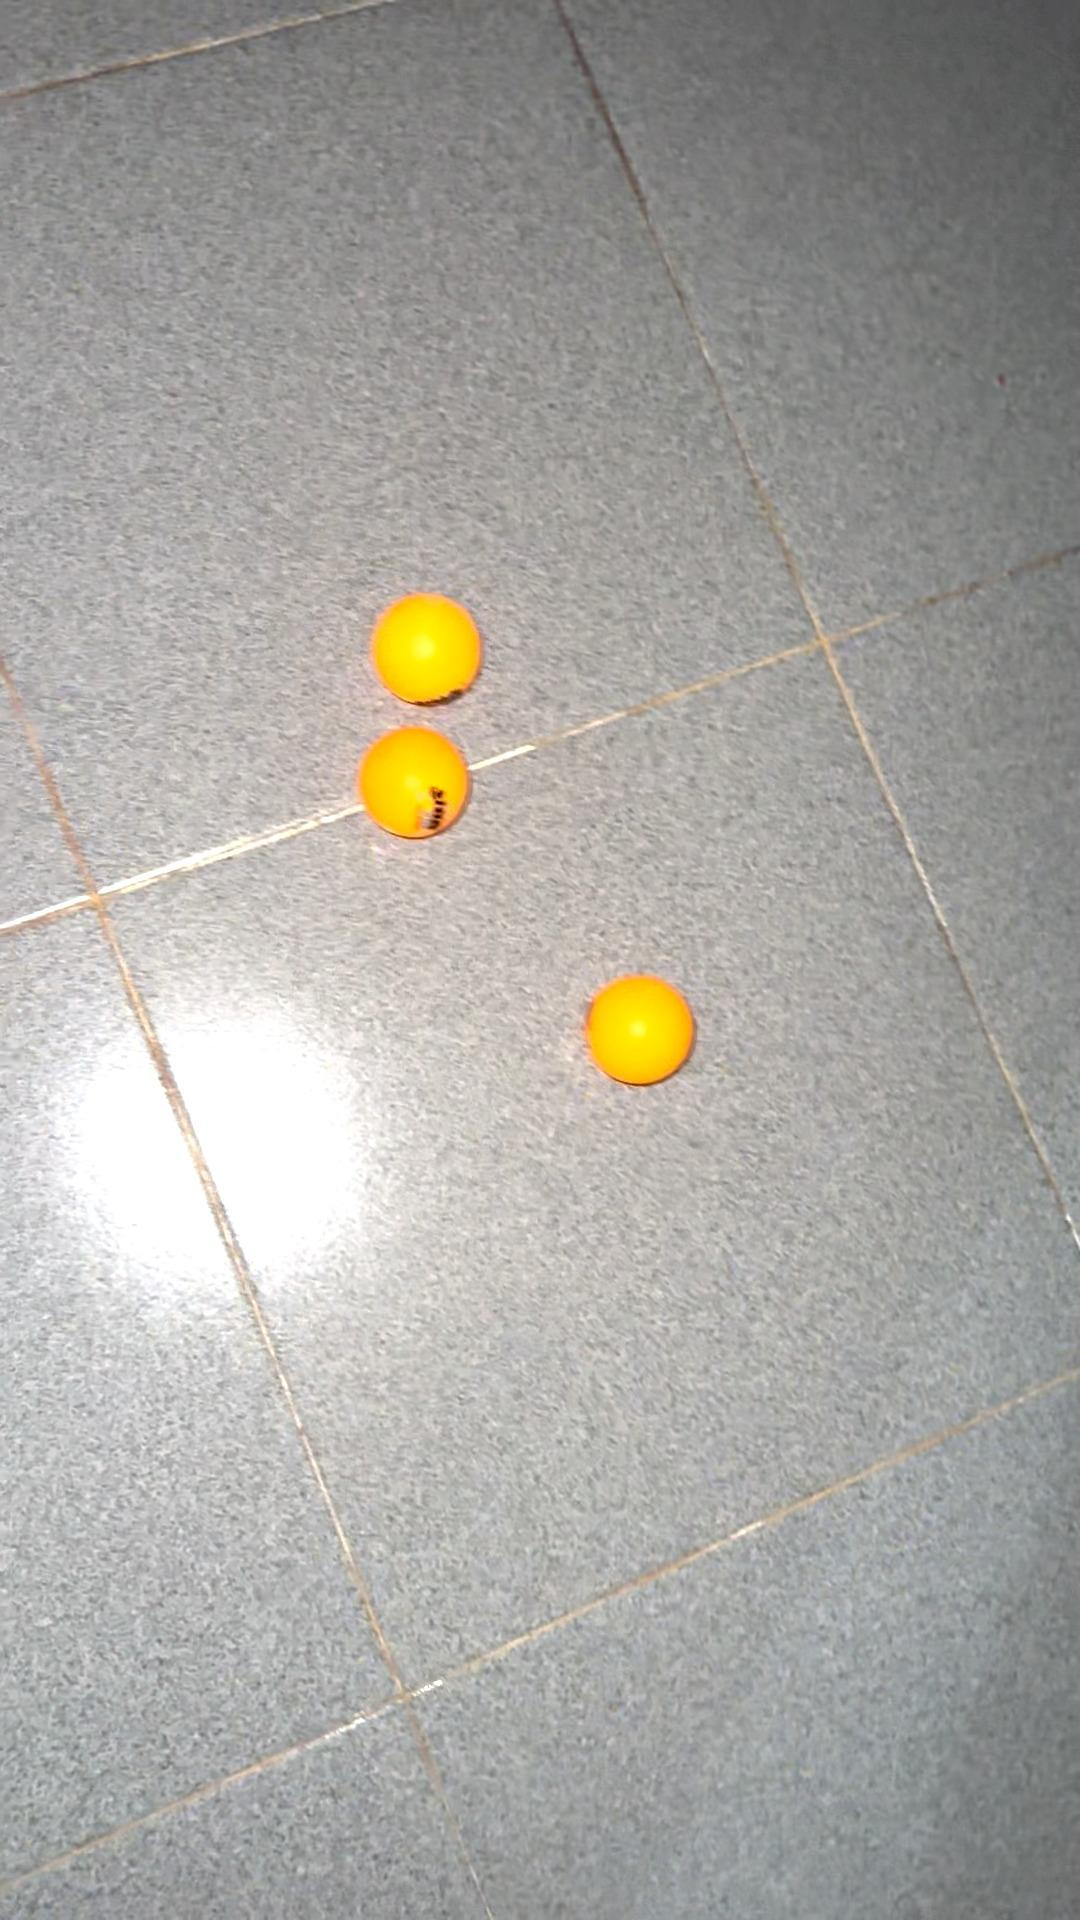oball: (575, 971, 717, 1100), (355, 721, 484, 857), (368, 575, 493, 713)
